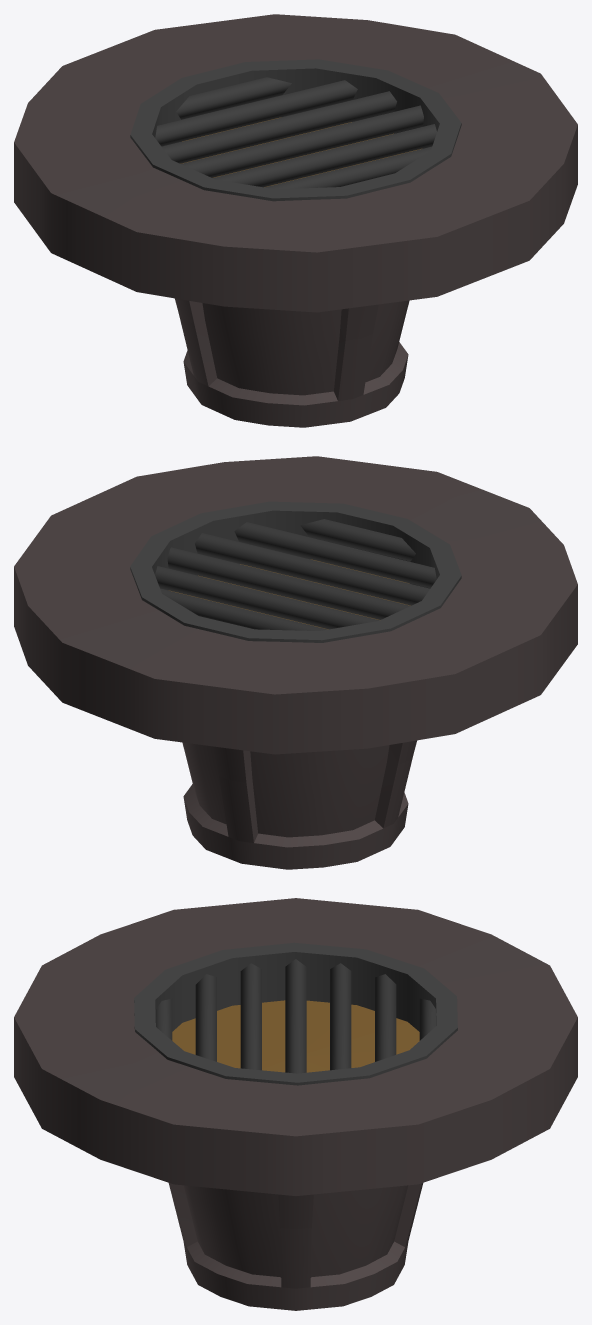
Rendered from L2_table.fbx.
3 views of the same model, one above another, from view 1: azimuth 30°, elevation 25°; view 2: azimuth 150°, elevation 25°; view 3: azimuth 270°, elevation 25° (orthographic).
Visible parts, largest first — view 1: L2_table; view 2: L2_table; view 3: L2_table.
Boxes of the visible parts, left/top/right/bottom form: L2_table: left=14, top=14, right=577, bottom=427; L2_table: left=14, top=456, right=577, bottom=869; L2_table: left=14, top=898, right=577, bottom=1310.
Size of the model in its own units: 50.37 by 24.86 by 50.37.
